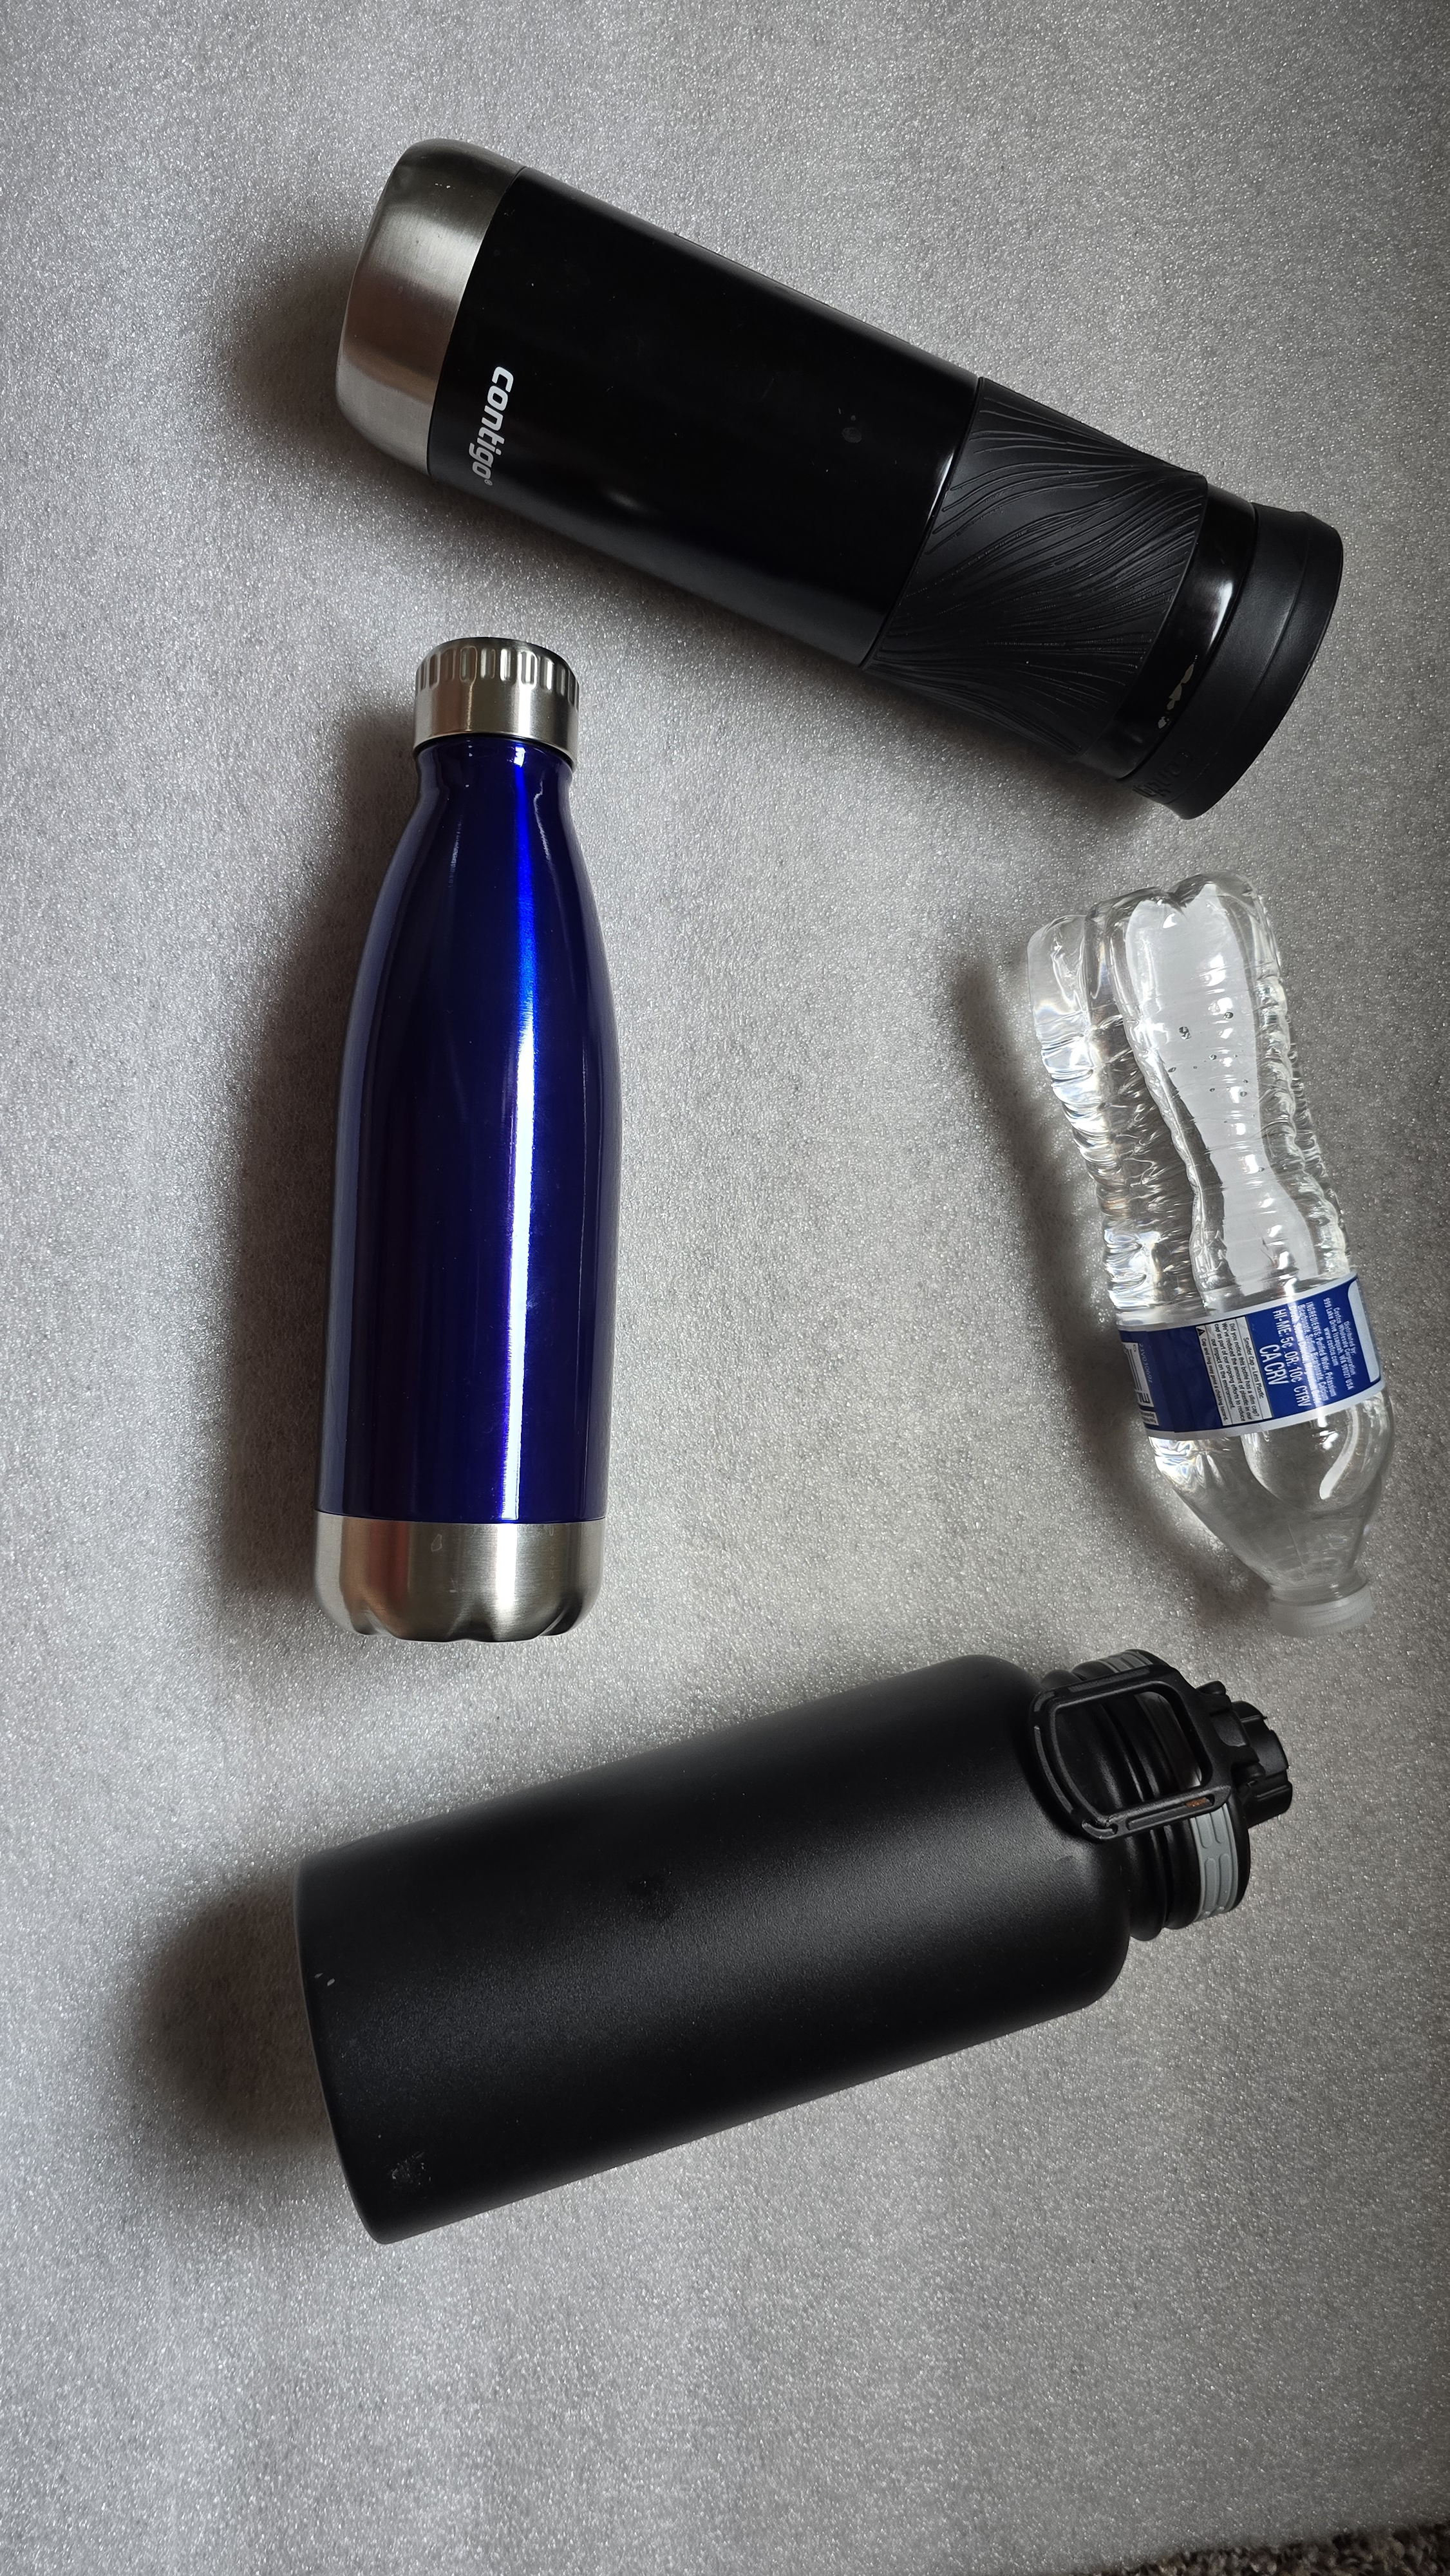bottle: (309, 124, 1360, 810), (195, 1668, 1369, 2222), (258, 623, 744, 1695), (960, 874, 1450, 1654)
